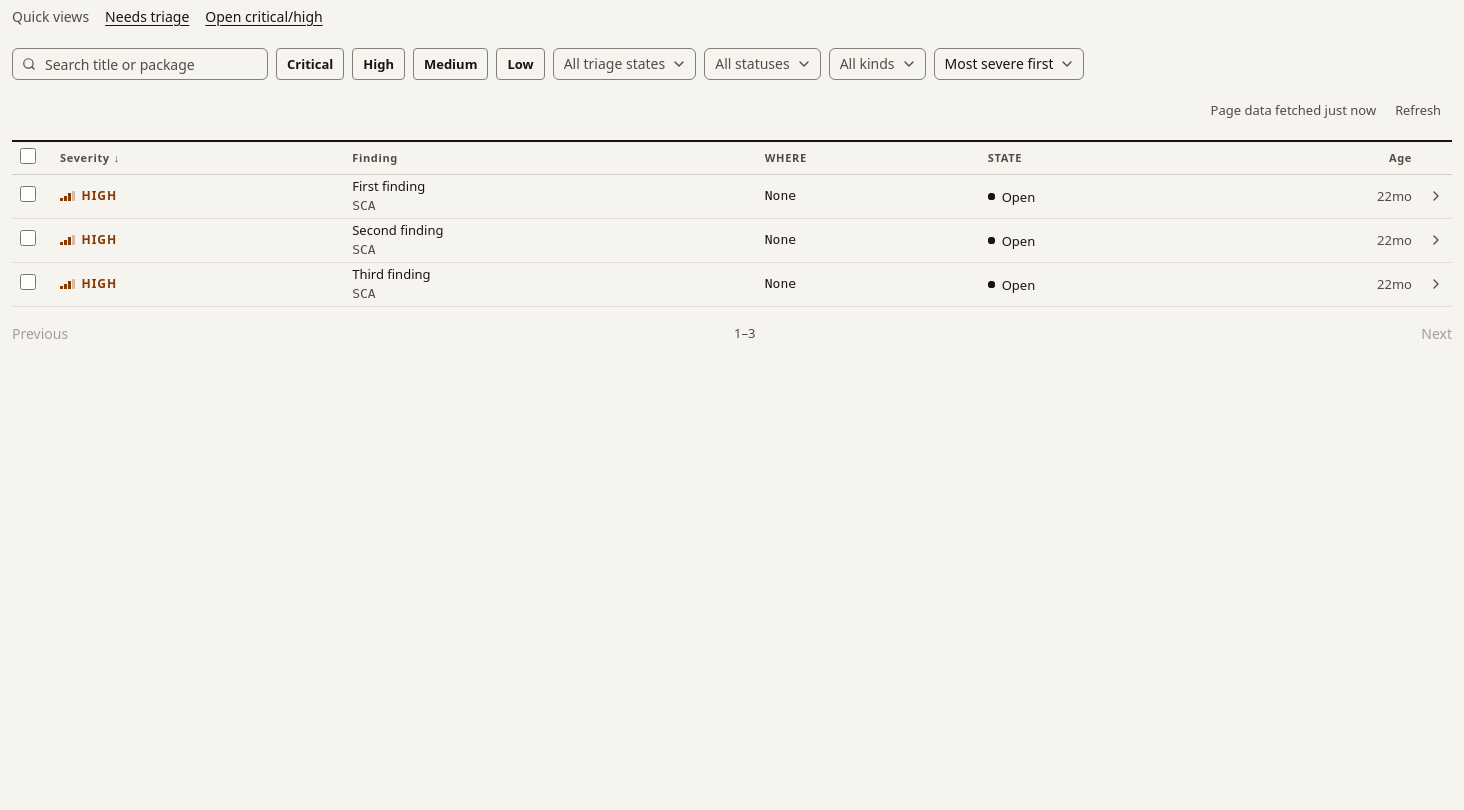
it: the findings list's selection and bulk actions › shows the bulk bar with the count as soon as something is selected
The width and height of the screenshot is (1464, 810).
Expected: the link "First finding" is shown, [352,177,425,195]
Click the checkbox named "Select First finding": {"x": 28, "y": 194} [20,186,36,202]
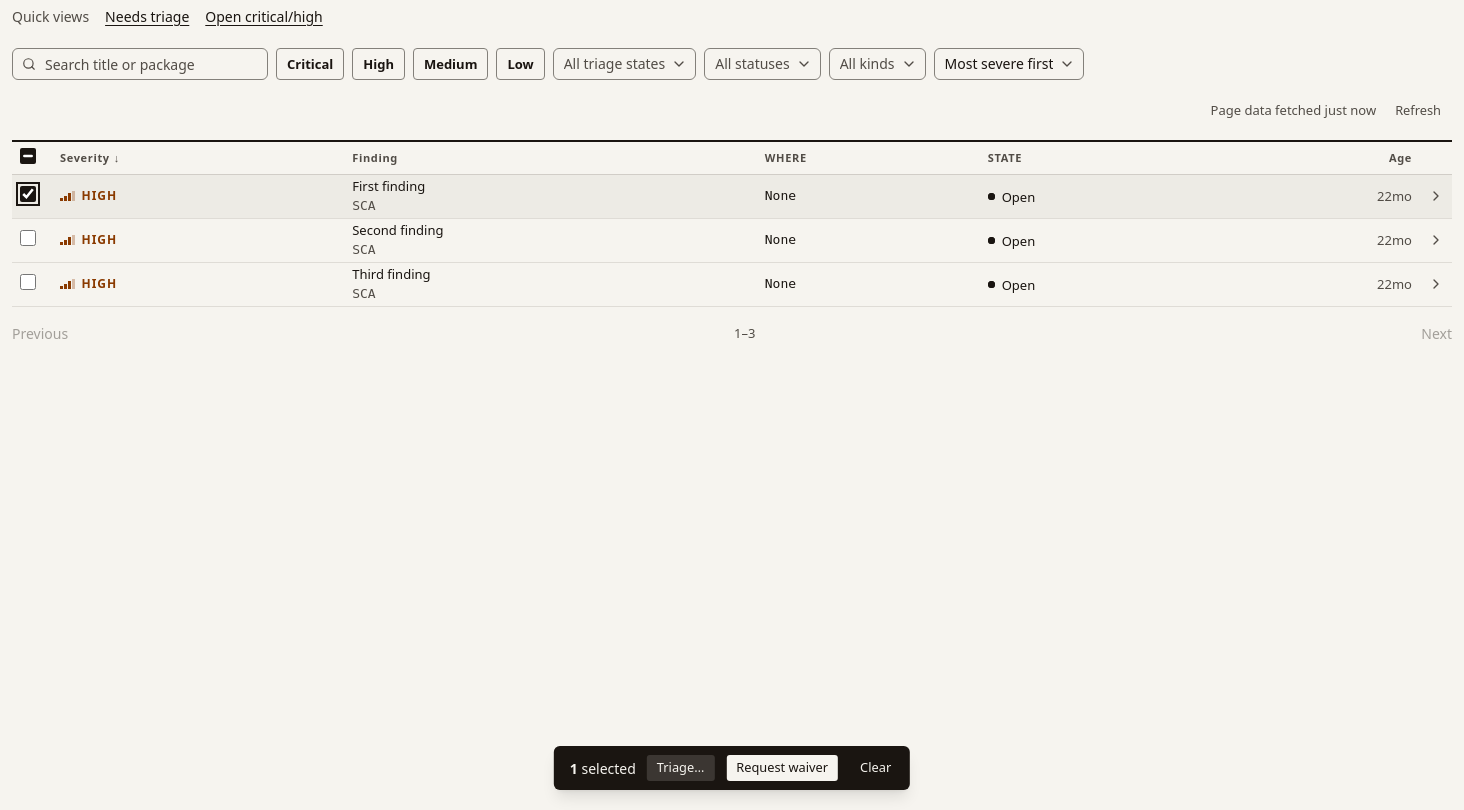
Click the checkbox named "Select Second finding": {"x": 28, "y": 238} [20,230,36,246]
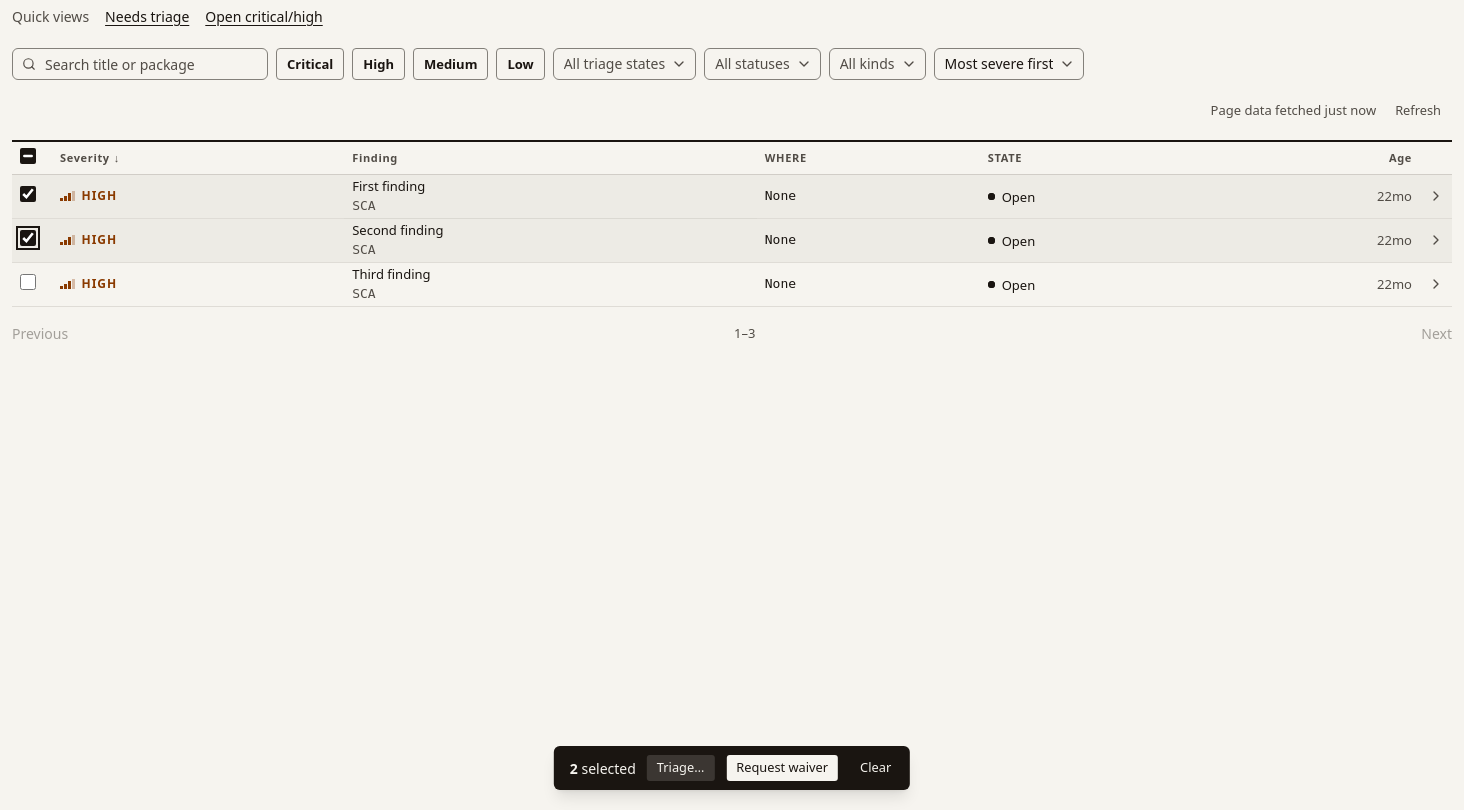
Now the button "Triage…" is shown, box [646,754,715,782]
Now the button "Request waiver" is shown, box [725,754,839,782]
Now the element named "Bulk actions" shows "2 selected", box [554,746,910,790]
